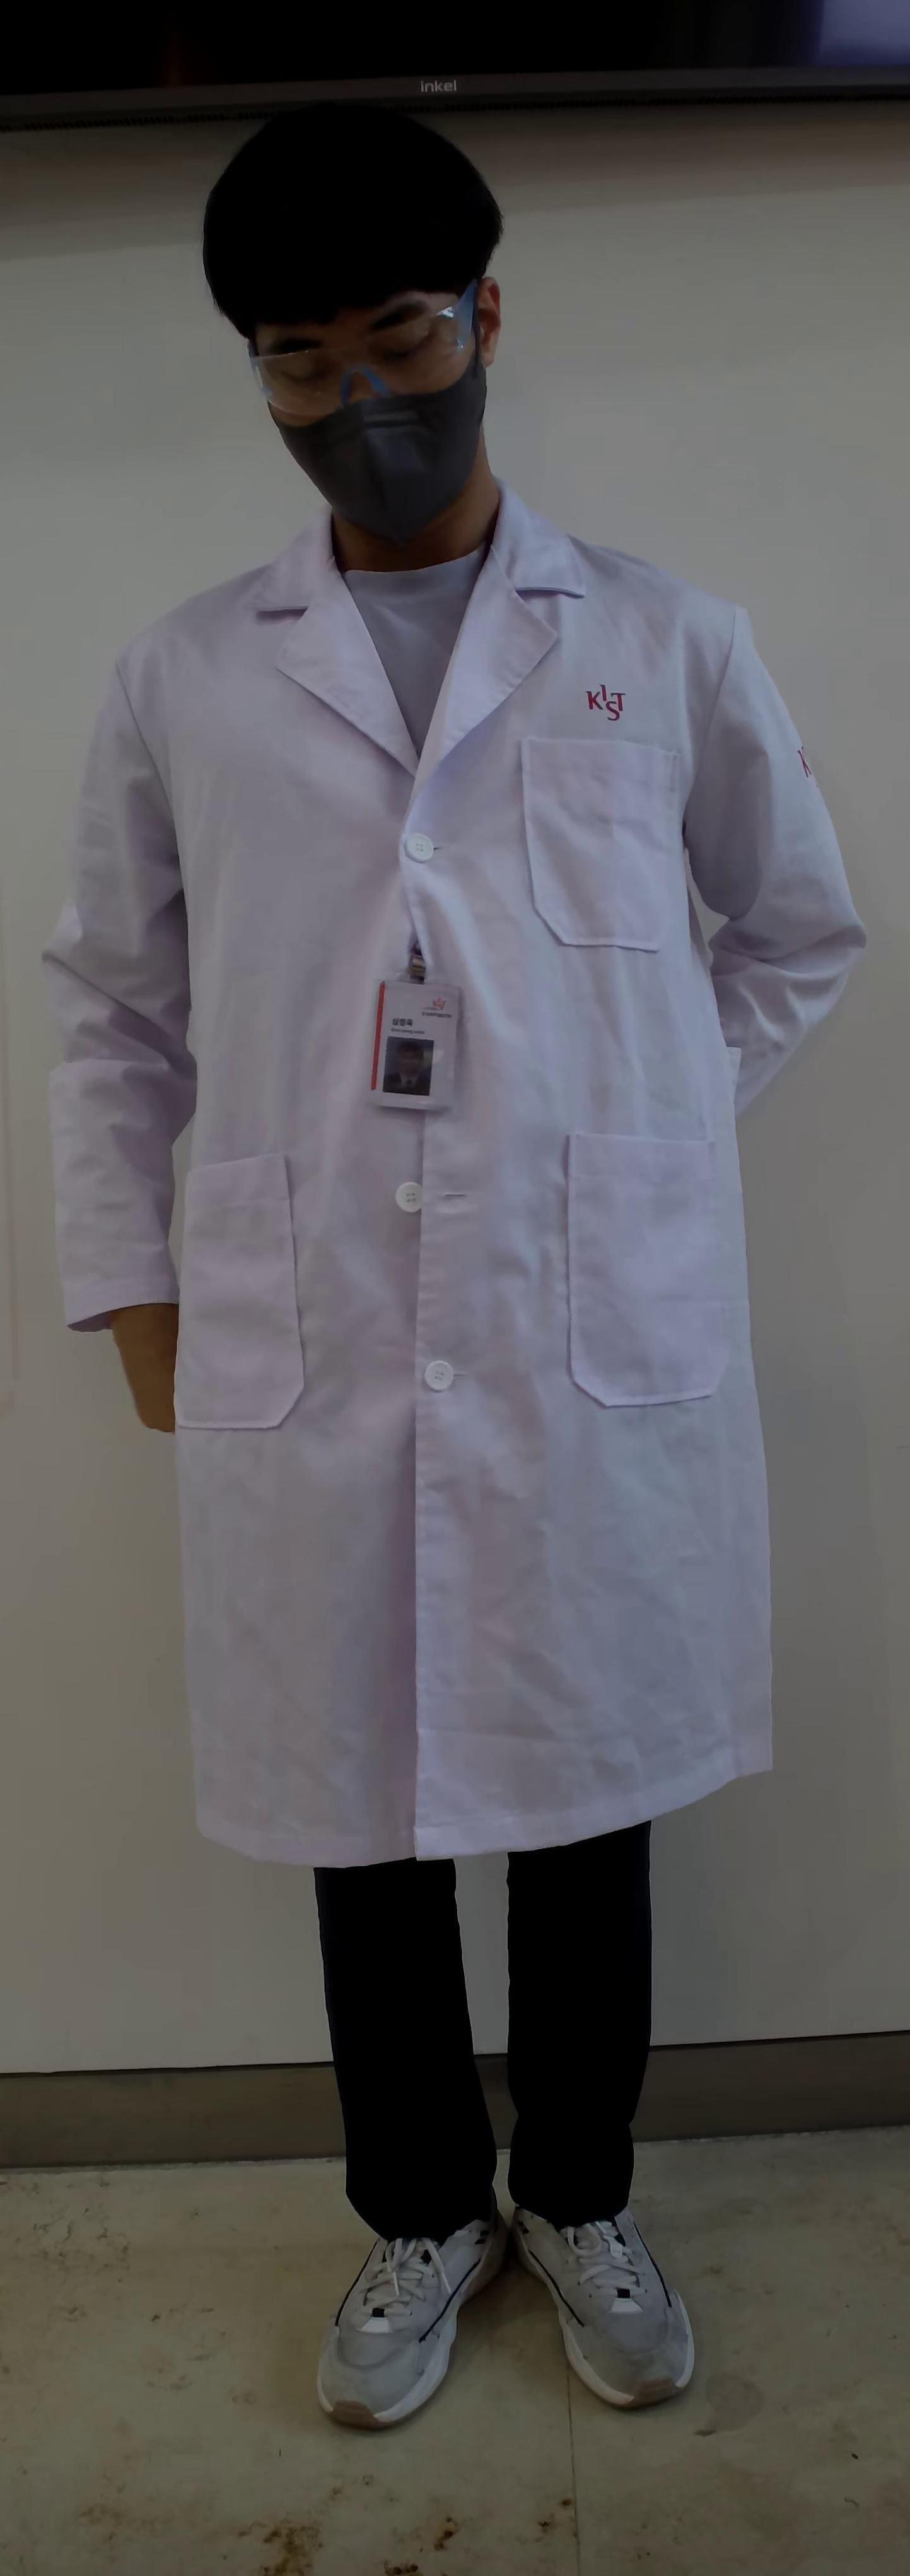lab_coat: (46, 570, 874, 1870)
